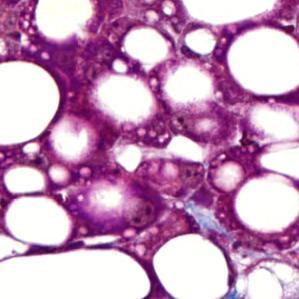steatosis: (6, 196, 75, 248), (1, 163, 45, 195)
